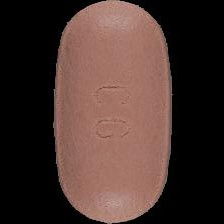54868-4425: (0, 0, 224, 224)
